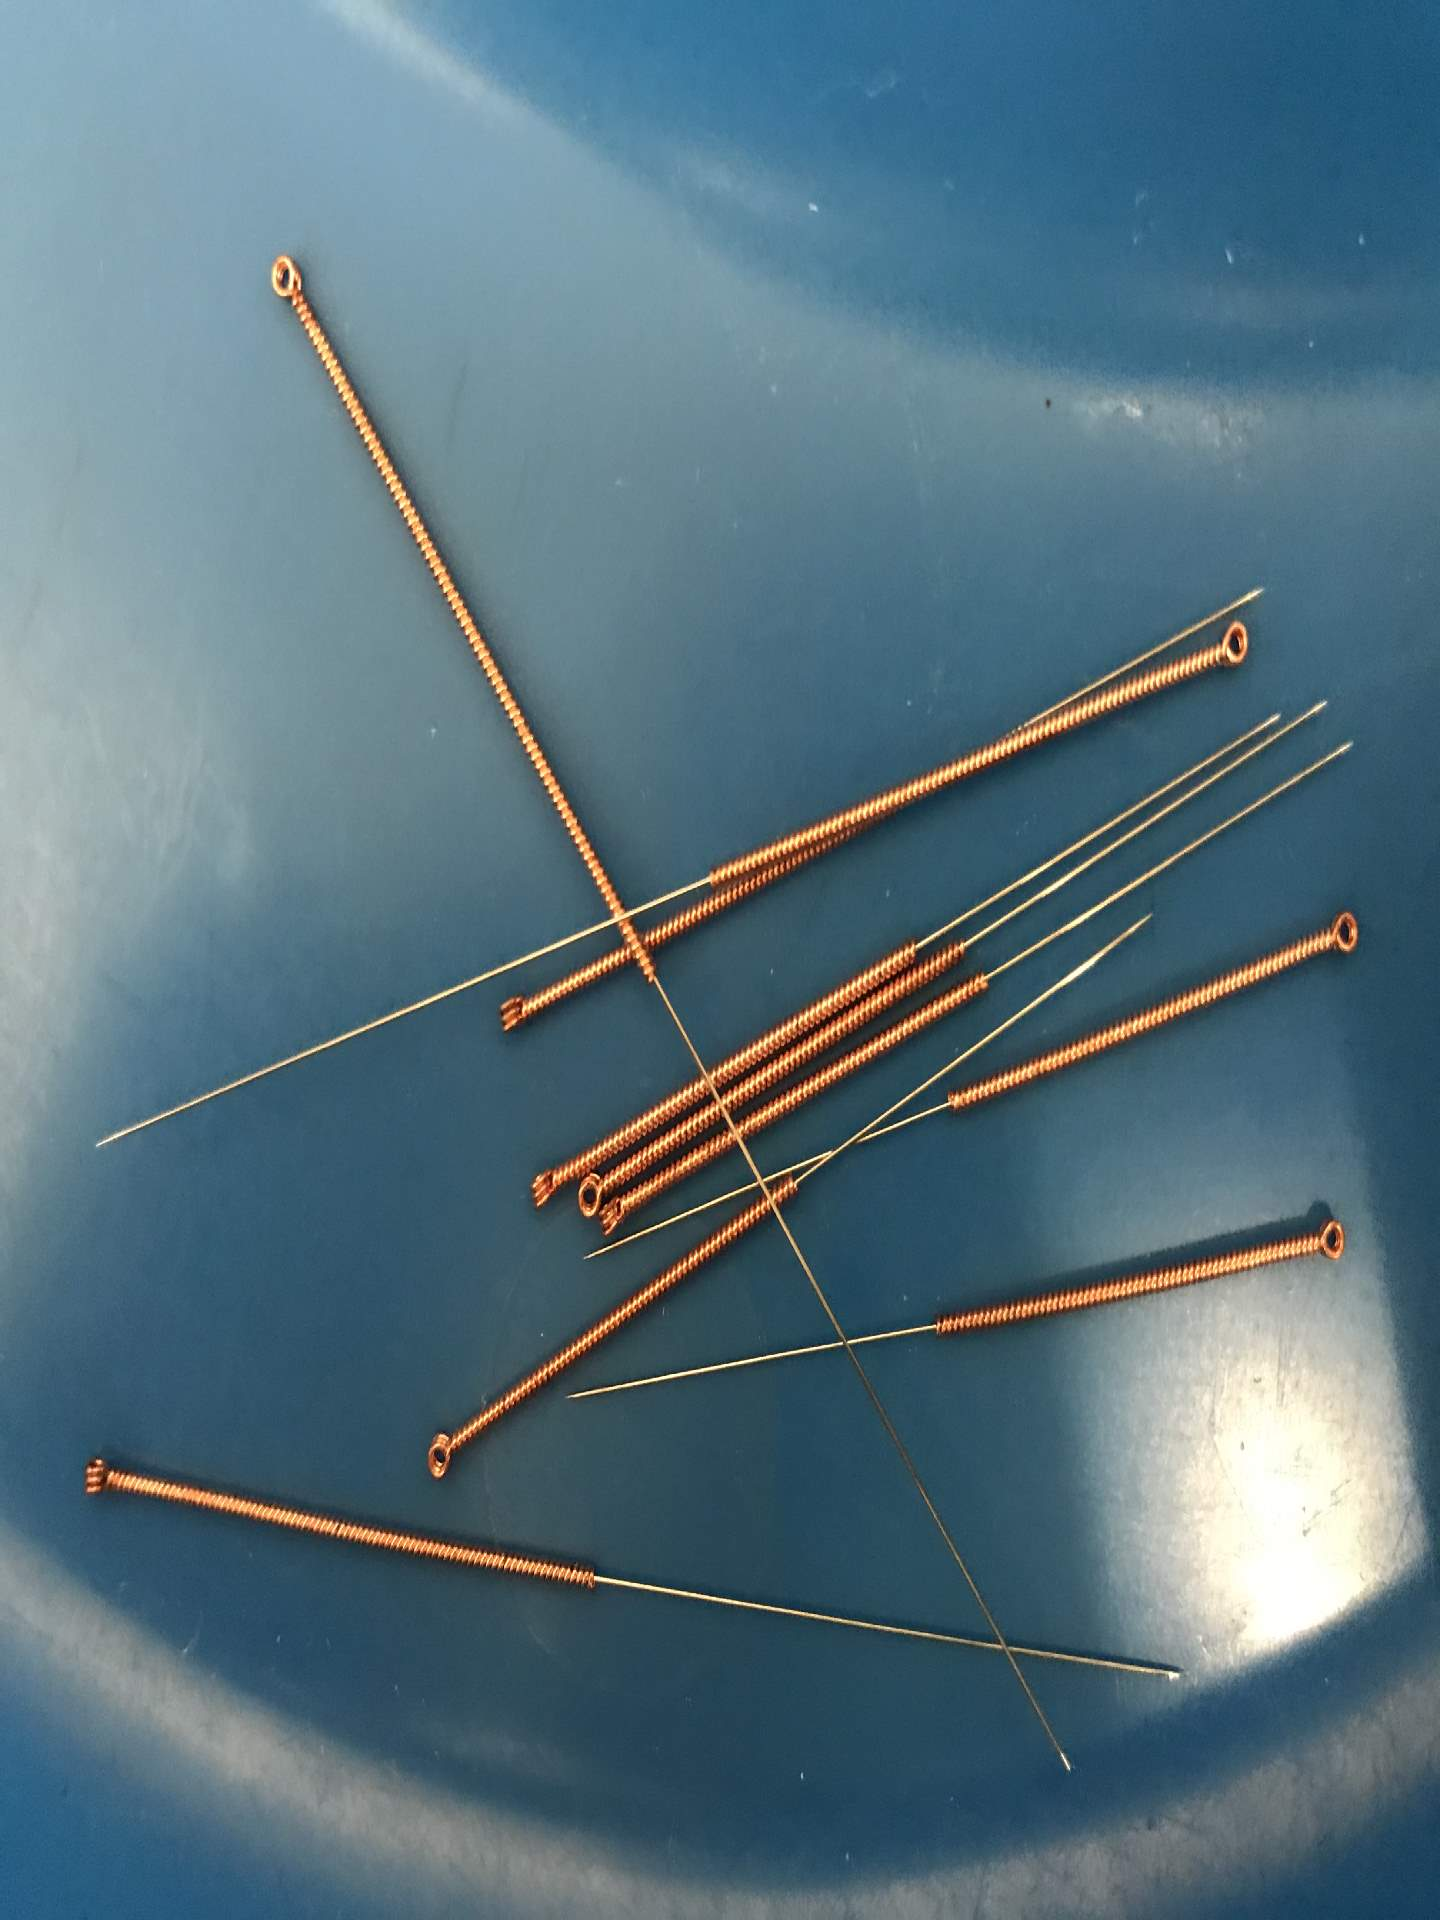needle: (253, 239, 315, 321), (1307, 897, 1369, 974), (1198, 608, 1263, 677), (70, 1442, 130, 1510), (414, 1417, 473, 1486), (1304, 1205, 1355, 1276), (483, 980, 538, 1045), (519, 1157, 566, 1215), (573, 1166, 616, 1222), (597, 1193, 641, 1246)
